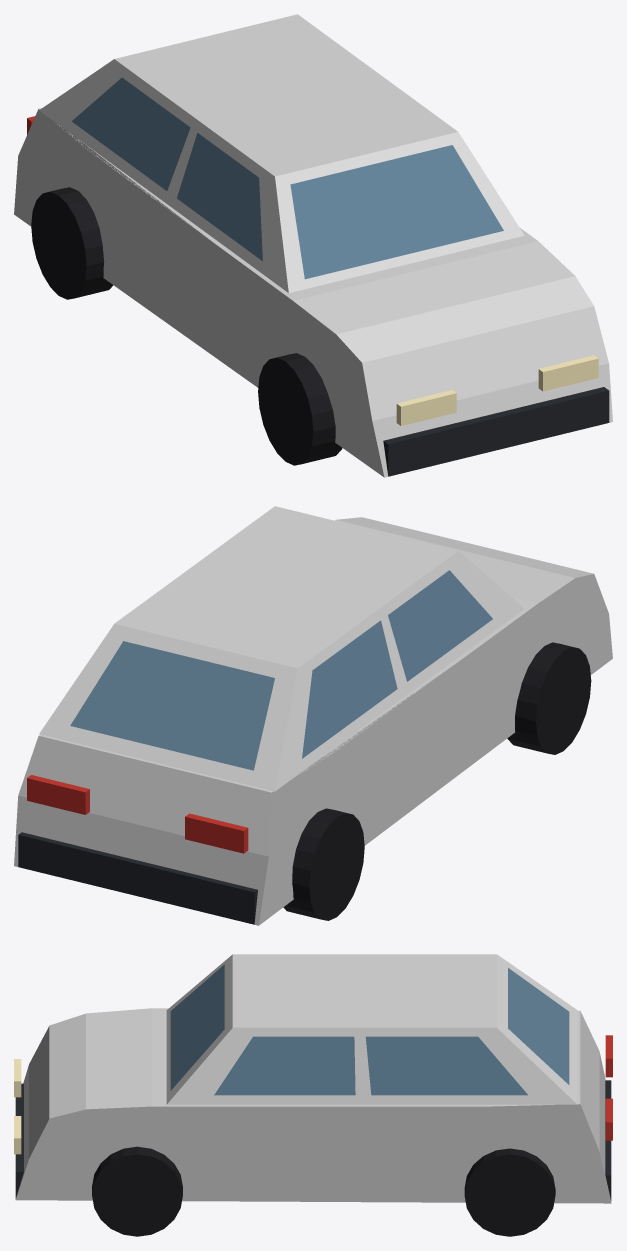
File: supermini.glb
3 renders of one model, top to bottom at view 1: azimuth 30°, elevation 25°; view 2: azimuth 150°, elevation 25°; view 3: azimuth 270°, elevation 25°, orthographic. The views are drawn at different scales.
Visible parts, largest first — view 1: body, cabin, glass_screen, bumper_nose, wheel_1_L_tyre, glass_side_0_L, wheel_0_L_tyre, glass_side_1_L, head_R, head_L; view 2: body, cabin, glass_back, bumper_tail, wheel_1_L_tyre, glass_side_0_L, wheel_0_L_tyre, glass_side_1_L, tail_L, tail_R; view 3: body, cabin, glass_side_0_R, glass_side_1_R, wheel_1_R_tyre, wheel_0_R_tyre, glass_back, glass_screen, bumper_nose, bumper_tail.
Boxes of the visible parts, bbox=[...] form: body: bbox=[14, 108, 612, 477]; cabin: bbox=[39, 14, 524, 292]; glass_screen: bbox=[290, 145, 503, 279]; bumper_nose: bbox=[383, 387, 609, 476]; wheel_1_L_tyre: bbox=[258, 353, 342, 465]; glass_side_0_L: bbox=[72, 77, 190, 190]; wheel_0_L_tyre: bbox=[31, 187, 113, 299]; glass_side_1_L: bbox=[177, 133, 262, 261]; head_R: bbox=[538, 355, 598, 391]; head_L: bbox=[396, 390, 456, 425]; body: bbox=[14, 517, 612, 925]; cabin: bbox=[39, 506, 524, 791]; glass_back: bbox=[70, 641, 274, 770]; bumper_tail: bbox=[18, 832, 257, 924]; wheel_1_L_tyre: bbox=[507, 642, 591, 754]; glass_side_0_L: bbox=[302, 620, 397, 758]; wheel_0_L_tyre: bbox=[283, 808, 364, 920]; glass_side_1_L: bbox=[388, 570, 492, 681]; tail_L: bbox=[185, 813, 248, 853]; tail_R: bbox=[27, 775, 89, 814]; body: bbox=[15, 1008, 611, 1203]; cabin: bbox=[166, 954, 577, 1104]; glass_side_0_R: bbox=[365, 1036, 527, 1095]; glass_side_1_R: bbox=[214, 1036, 355, 1095]; wheel_1_R_tyre: bbox=[92, 1146, 182, 1236]; wheel_0_R_tyre: bbox=[464, 1148, 555, 1236]; glass_back: bbox=[508, 968, 569, 1084]; glass_screen: bbox=[170, 964, 224, 1090]; bumper_nose: bbox=[15, 1083, 23, 1197]; bumper_tail: bbox=[605, 1080, 611, 1200].
Bounding box in the file's own units: 1.8 × 1.43 × 4.08.
